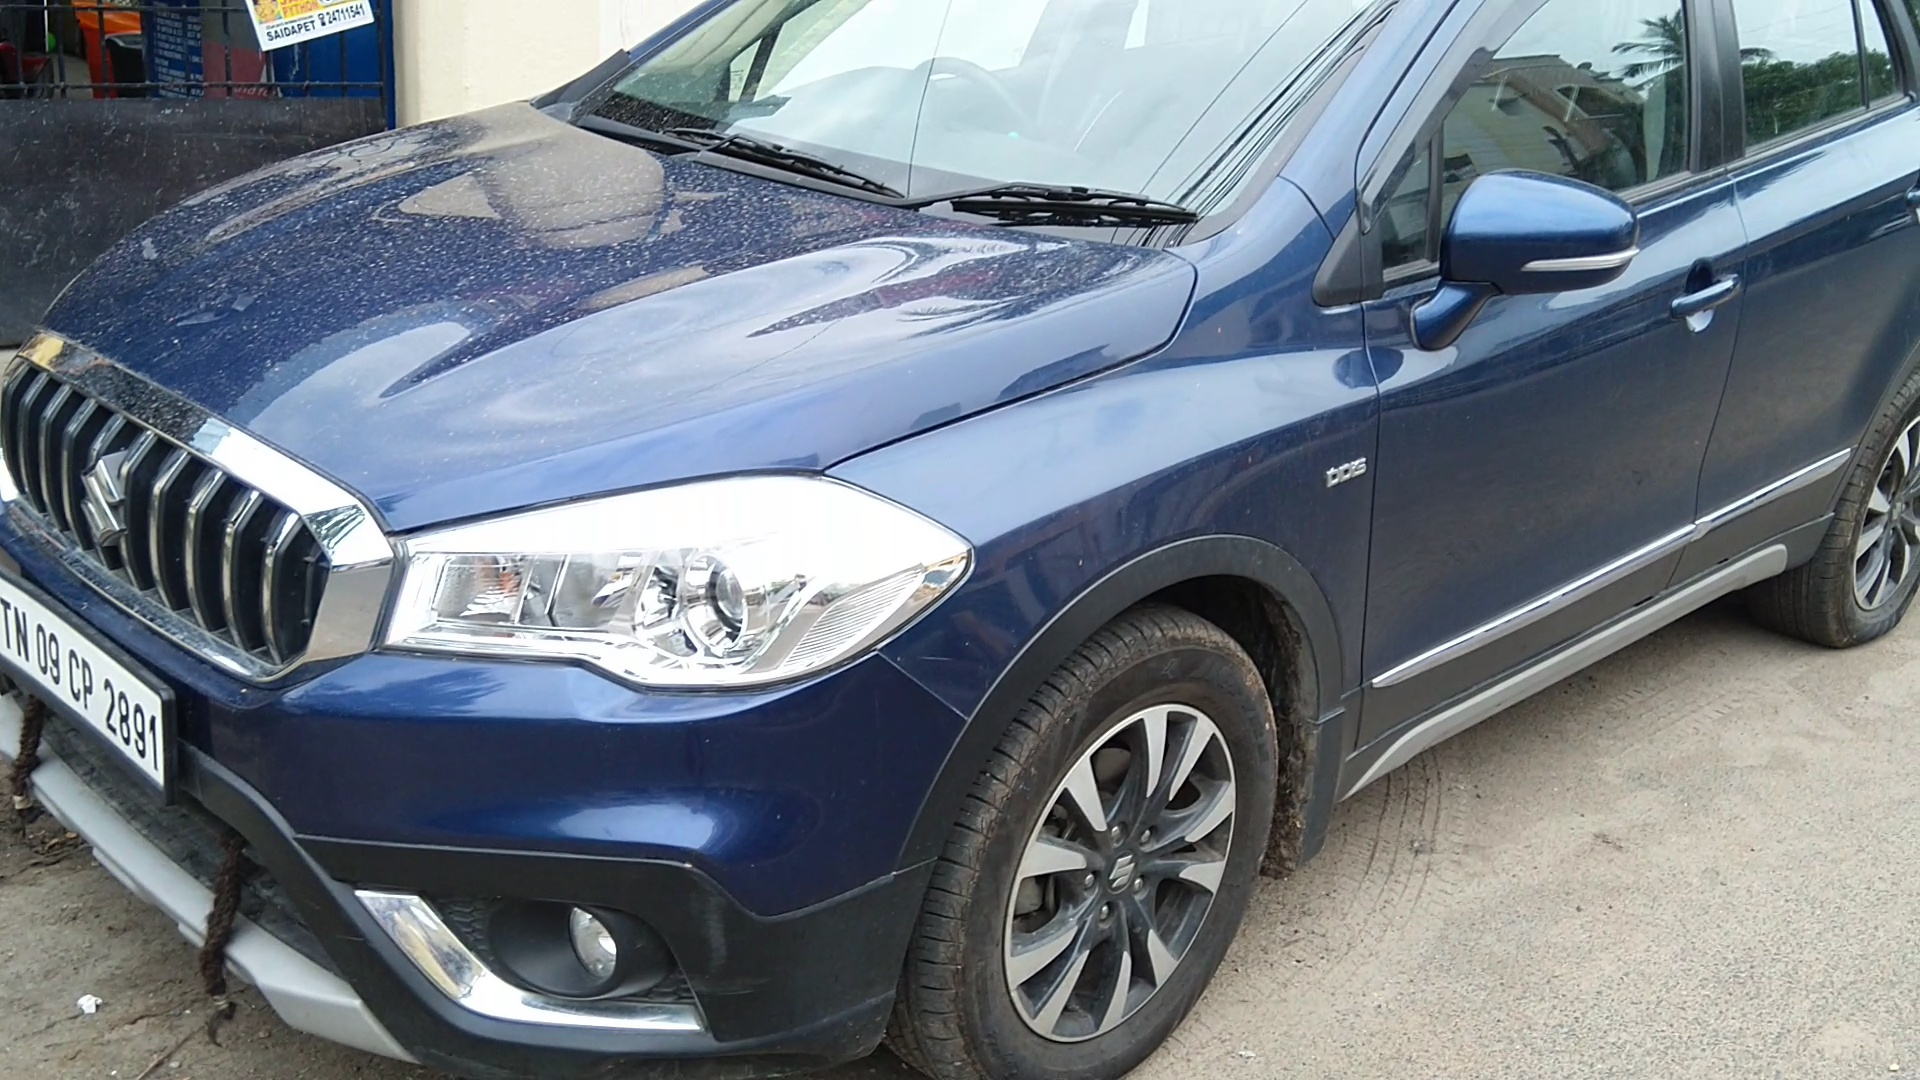alloy_wheel: (926, 616, 1288, 1080)
front_grill: (1, 299, 371, 669)
headlamp: (388, 434, 994, 678)
ovr_mirror: (1441, 156, 1647, 319)
